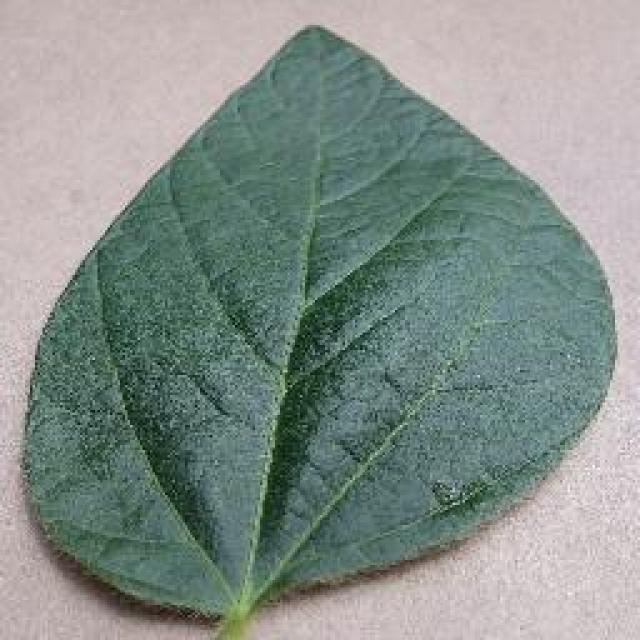Soy_healthy: (44, 97, 549, 568)
